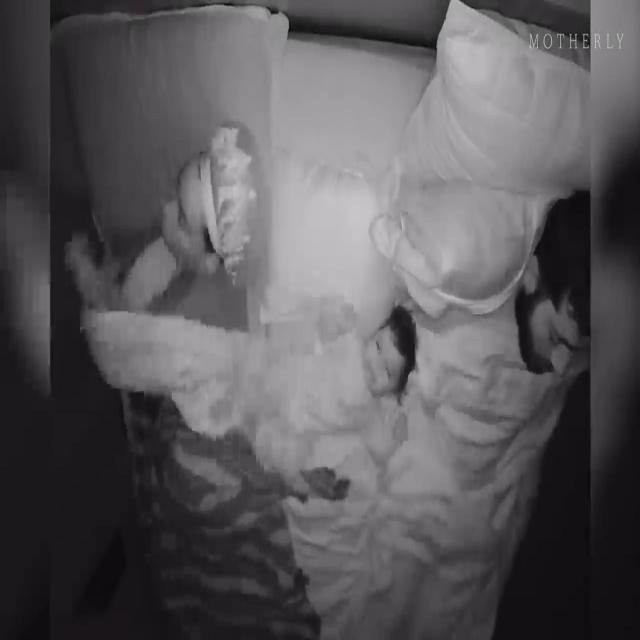baby: (270, 298, 415, 463)
